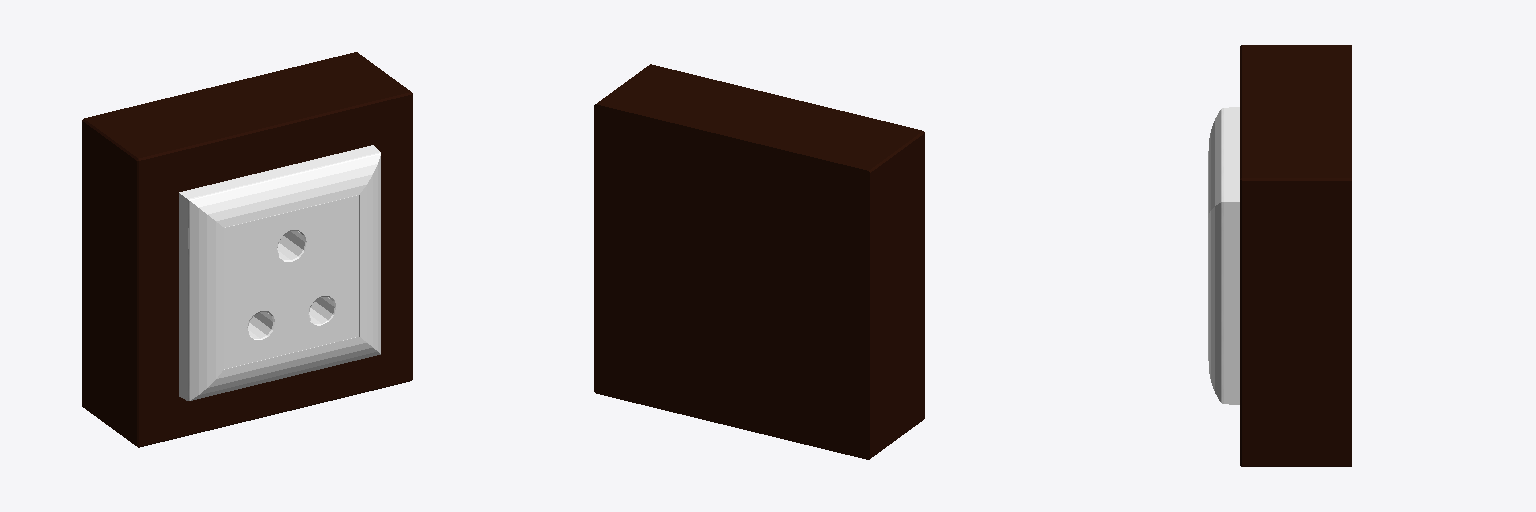
The model's file is Socket_India.obj.
3 views of the same model, side by side, from view 1: azimuth 30°, elevation 25°; view 2: azimuth 150°, elevation 25°; view 3: azimuth 270°, elevation 25° (orthographic).
Parts seen in each view (by area): view 1: Circle.004_Socket_IN, Gira_021104:Abdeckrahmen_1f_Standard_55_Reinweiß_m:516866.002_me; view 2: Circle.004_Socket_IN; view 3: Circle.004_Socket_IN, Gira_021104:Abdeckrahmen_1f_Standard_55_Reinweiß_m:516866.002_me.
Part boxes in pixels (x1,y1,x2,y2): Circle.004_Socket_IN: (82,52,412,447); Gira_021104:Abdeckrahmen_1f_Standard_55_Reinweiß_m:516866.002_me: (179,145,380,400); Circle.004_Socket_IN: (594,64,924,459); Circle.004_Socket_IN: (1240,45,1351,466); Gira_021104:Abdeckrahmen_1f_Standard_55_Reinweiß_m:516866.002_me: (1208,107,1239,404).
Bounding box in the file's own units: 0.1145 × 0.1145 × 0.0514.